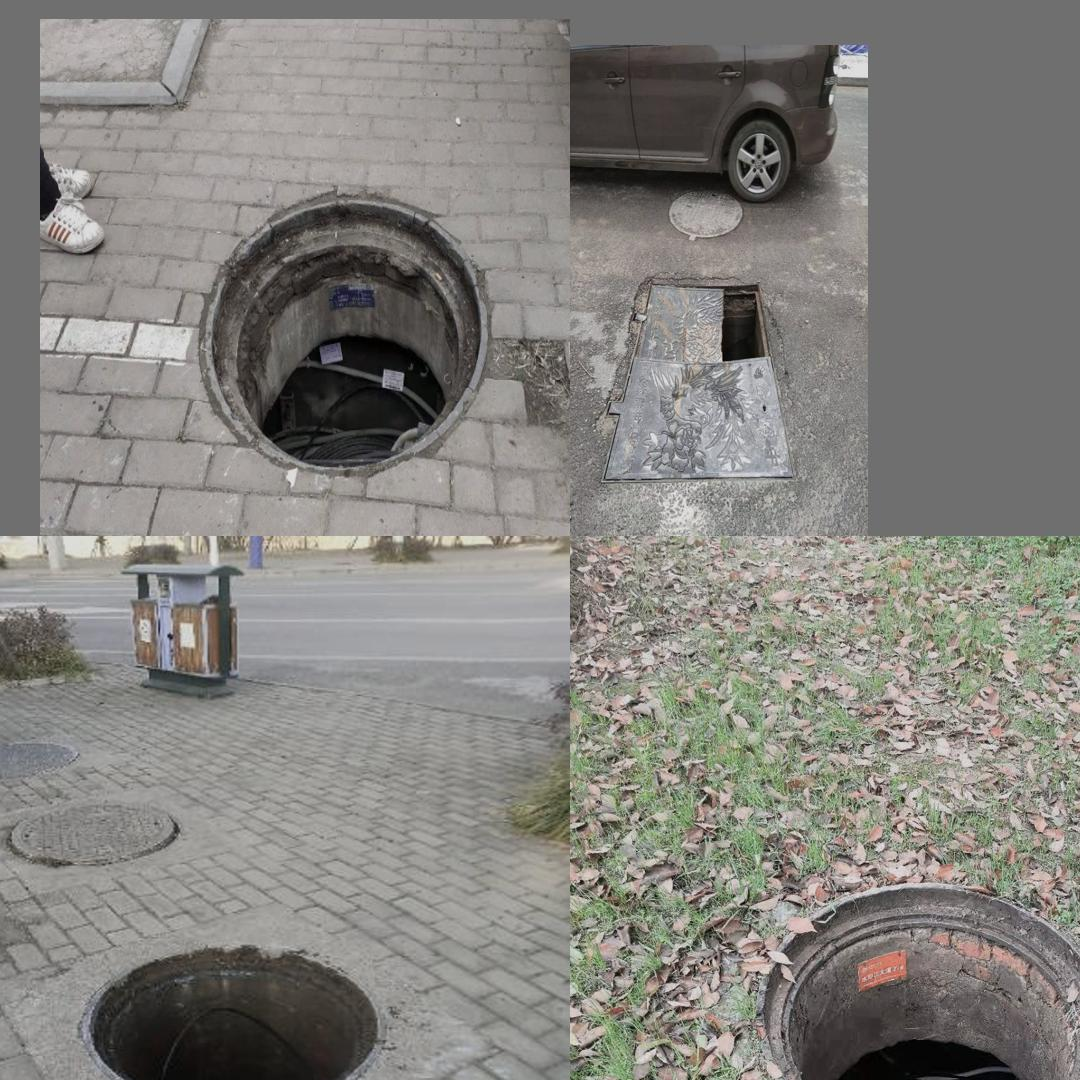good: (7, 797, 178, 868), (0, 738, 77, 783)
lose: (195, 184, 490, 485), (752, 881, 1080, 1080), (591, 265, 800, 494), (79, 941, 390, 1080)
